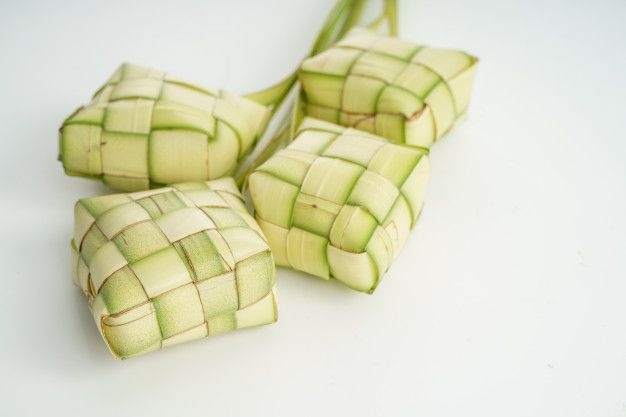ketupat: (72, 177, 281, 359), (246, 117, 431, 296), (57, 59, 272, 185), (299, 22, 480, 150)
